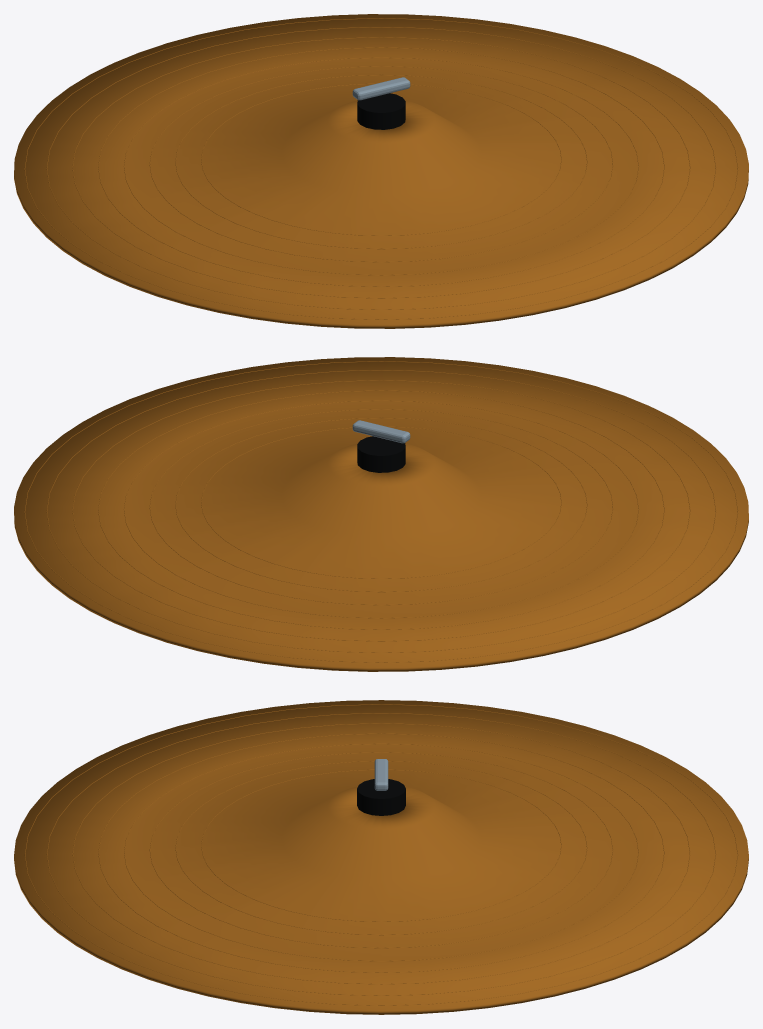
Rendered from Crash2.obj.
3 views of the same model, one above another, from view 1: azimuth 30°, elevation 25°; view 2: azimuth 150°, elevation 25°; view 3: azimuth 270°, elevation 25° (orthographic).
Parts seen in each view (by area): view 1: Crash2.001; view 2: Crash2.001; view 3: Crash2.001.
Boxes of the visible parts, x1,y1,x2,y2 form: Crash2.001: (14,14,748,328); Crash2.001: (14,357,748,671); Crash2.001: (14,700,748,1014).
Size of the model in its own units: 0.48 by 0.064 by 0.48.
